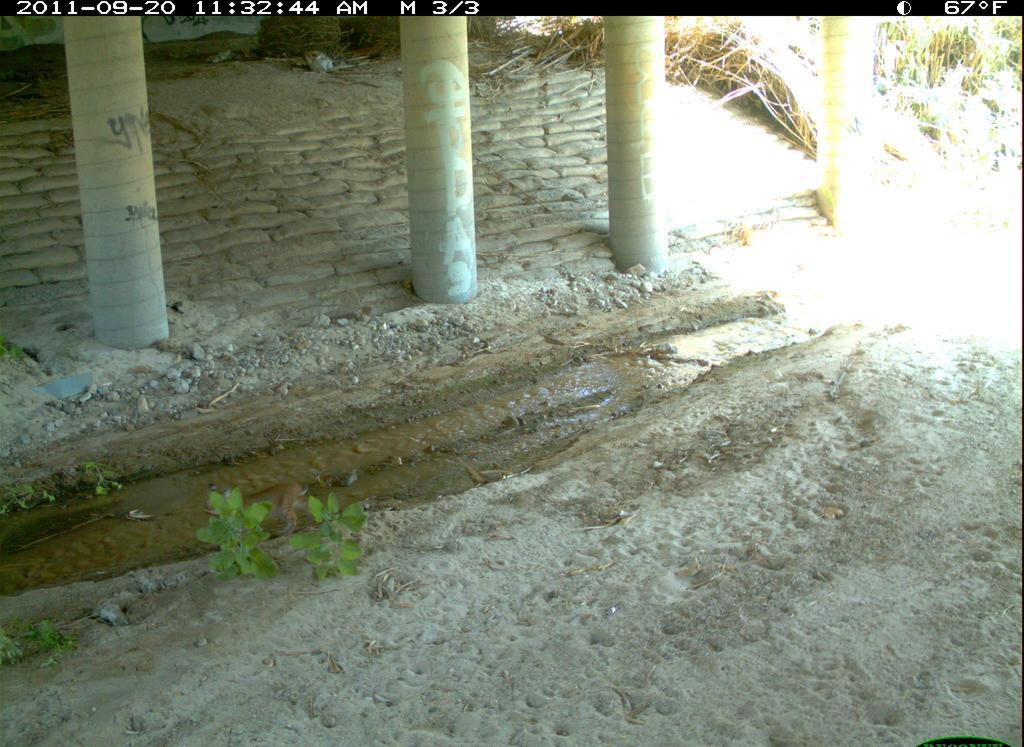bobcat: (536, 72, 748, 200)
